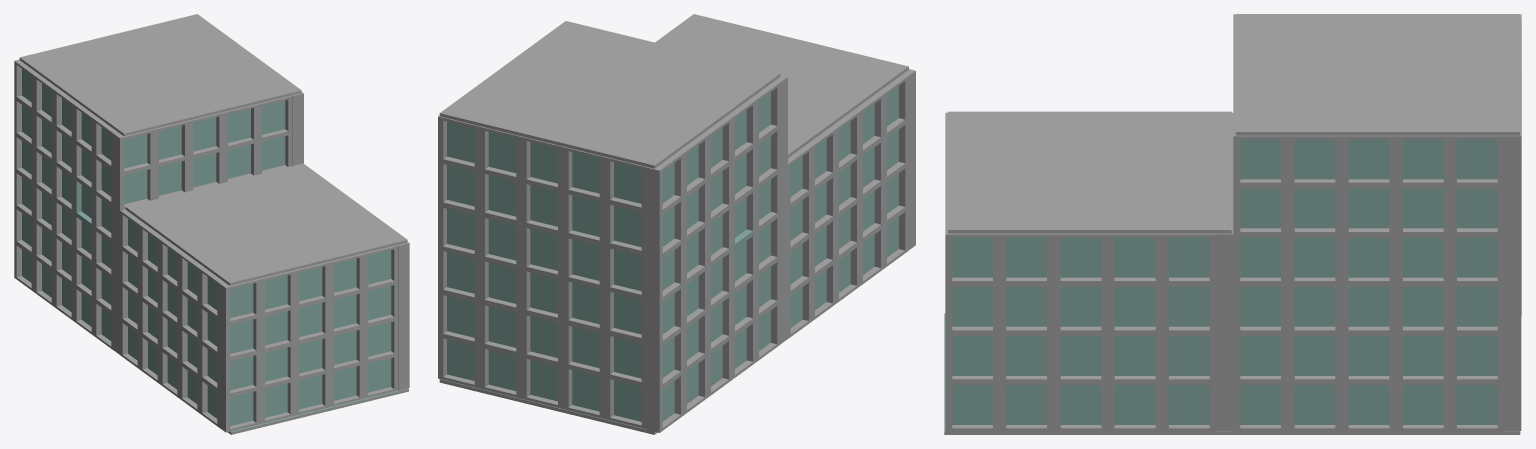
The model's file is Normal apartment buildings.fbx.
The picture shows the model from 3 angles, left to right: view 1: azimuth 30°, elevation 25°; view 2: azimuth 150°, elevation 25°; view 3: azimuth 270°, elevation 25°; orthographic projection. The views are drawn at different scales.
Parts seen in each view (by area): view 1: pCube992; view 2: pCube992; view 3: pCube992.
Boxes of the visible parts, left/top/right/bottom form: pCube992: left=14, top=14, right=409, bottom=434; pCube992: left=438, top=14, right=915, bottom=434; pCube992: left=944, top=14, right=1521, bottom=434.
Bounding box in the file's own units: 639 × 740 × 1278.
